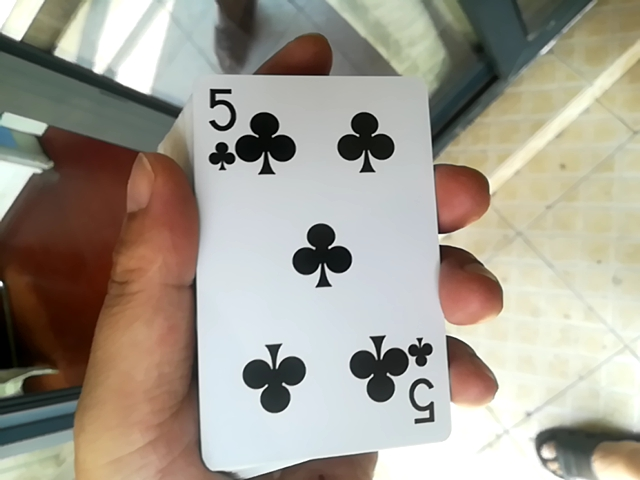mh 5: (185, 48, 456, 474)
